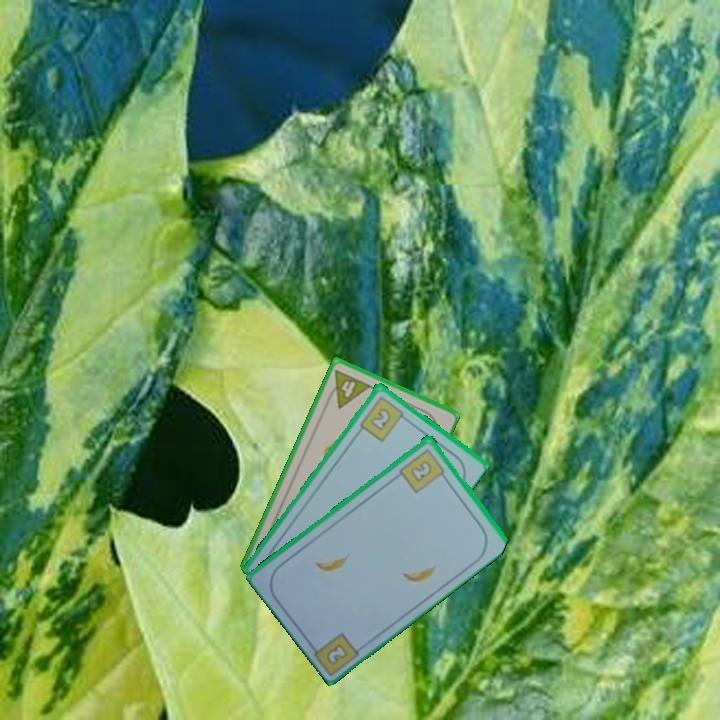2b: (356, 392, 410, 444), (396, 444, 449, 495), (322, 640, 351, 668)
4p: (322, 366, 374, 411)
